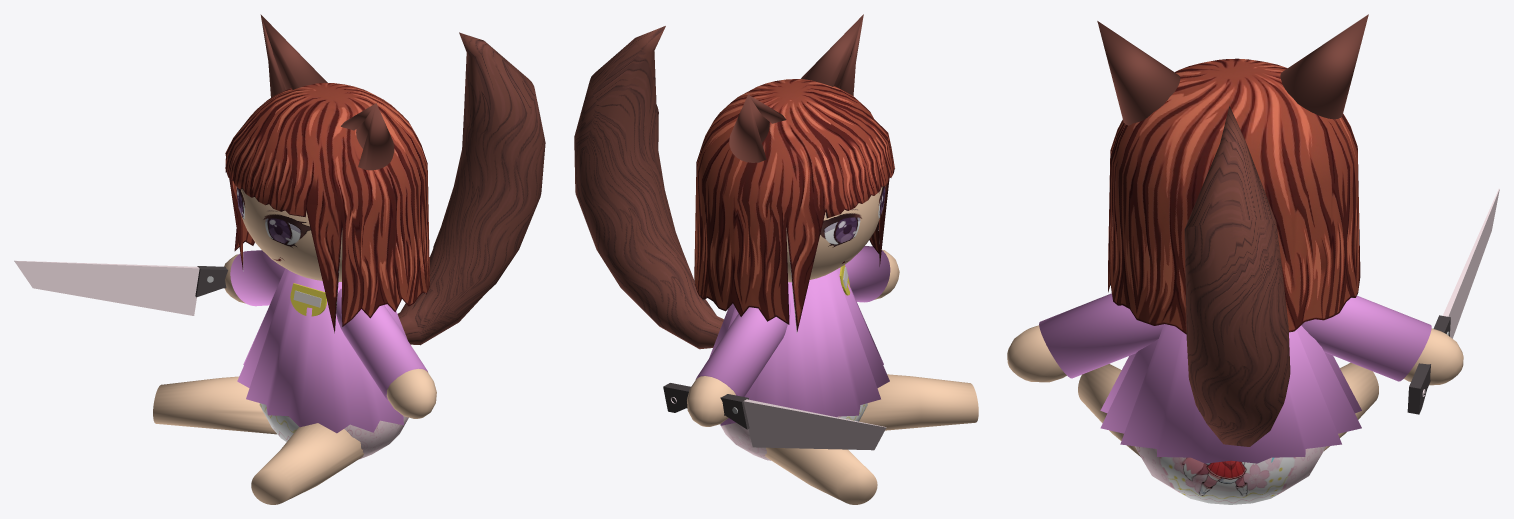
The model's file is sakuradiaperdoll.glb.
The picture shows the model from 3 angles, left to right: view 1: azimuth 30°, elevation 25°; view 2: azimuth 150°, elevation 25°; view 3: azimuth 270°, elevation 25°; orthographic projection. The views are drawn at different scales.
Visible parts, largest first — view 1: head.001, Cylinder.002, head.003, head.002, head, legs.001, legs, Cone, Cone.001, head.004, Cylinder; view 2: head.001, Cylinder.002, head.002, head.003, legs.001, head, legs, Cone, Cone.001, head.004; view 3: head.001, Cylinder.002, head.003, head.002, Cone, Cone.001, head, legs.001, legs, head.004.
Boxes of the visible parts, box(x1,y1,x2,y2) form: head.001: box(225, 82, 429, 333); Cylinder.002: box(397, 32, 545, 345); head.003: box(224, 187, 436, 459); head.002: box(237, 268, 407, 433); head: box(14, 260, 199, 315); legs.001: box(251, 423, 363, 504); legs: box(153, 376, 276, 434); Cone: box(260, 14, 327, 97); Cone.001: box(341, 103, 394, 170); head.004: box(195, 266, 227, 297); Cylinder: box(290, 283, 326, 316); head.001: box(694, 79, 894, 333); Cylinder.002: box(574, 26, 723, 349); head.002: box(709, 267, 889, 425); head.003: box(687, 186, 899, 460); legs.001: box(859, 374, 978, 430); head: box(671, 397, 886, 450); legs: box(765, 447, 877, 504); Cone: box(729, 94, 786, 162); Cone.001: box(801, 14, 863, 95); head.004: box(663, 383, 749, 429); head.001: box(1108, 58, 1360, 334); Cylinder.002: box(1184, 106, 1290, 446); head.003: box(1007, 293, 1463, 504); head.002: box(1100, 324, 1361, 463); Cone: box(1280, 14, 1368, 119); Cone.001: box(1097, 21, 1180, 125); head: box(1422, 188, 1499, 396); legs.001: box(1078, 364, 1140, 456); legs: box(1324, 362, 1378, 450); head.004: box(1407, 315, 1450, 414).
Bounding box in the file's own units: 5.87 × 5.35 × 5.12.
13 materials, 5 textured.
